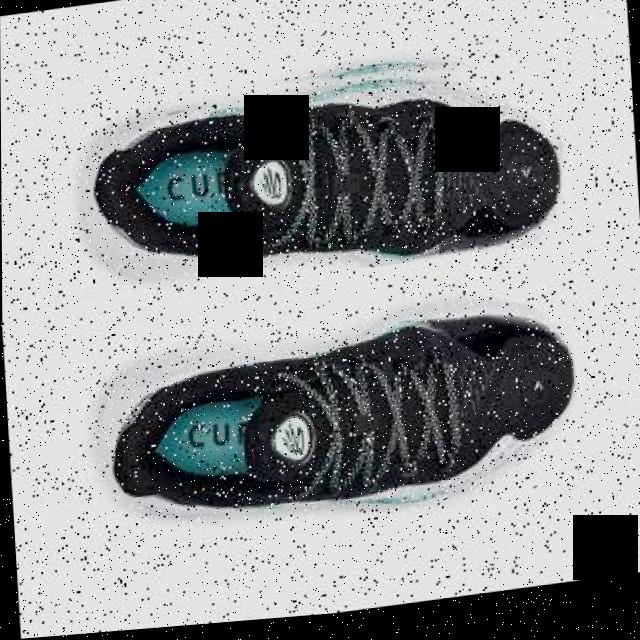shoe: (71, 43, 566, 308), (88, 285, 581, 547)
